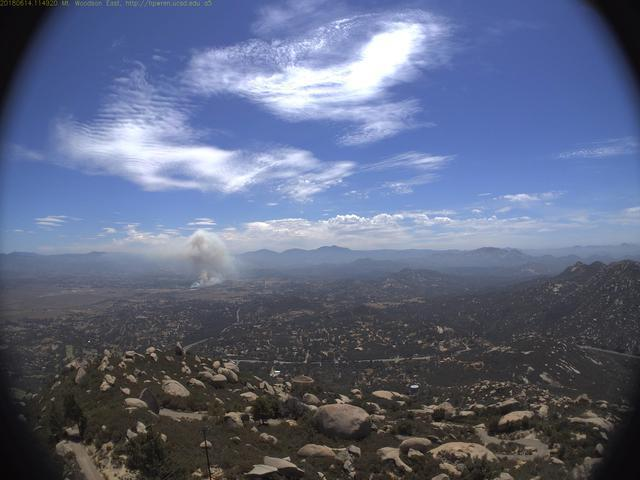smoke: (186, 228, 241, 293)
